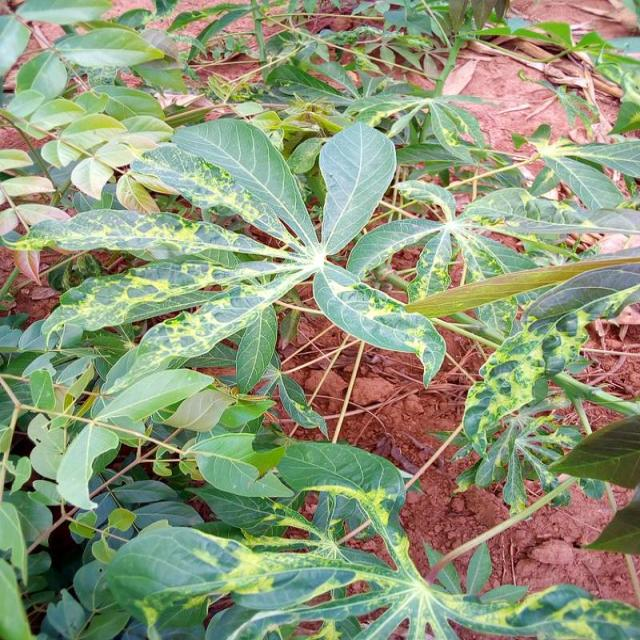cassava leaf: (312, 258, 446, 389), (318, 119, 397, 256)
